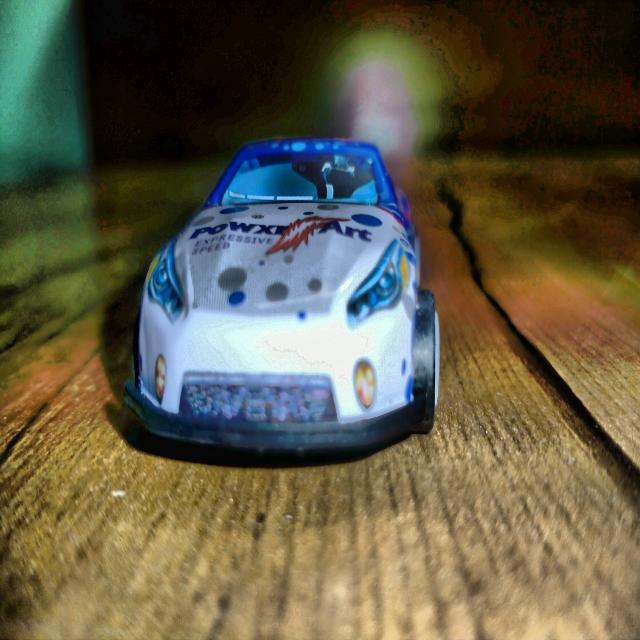Car: (138, 126, 432, 477)
